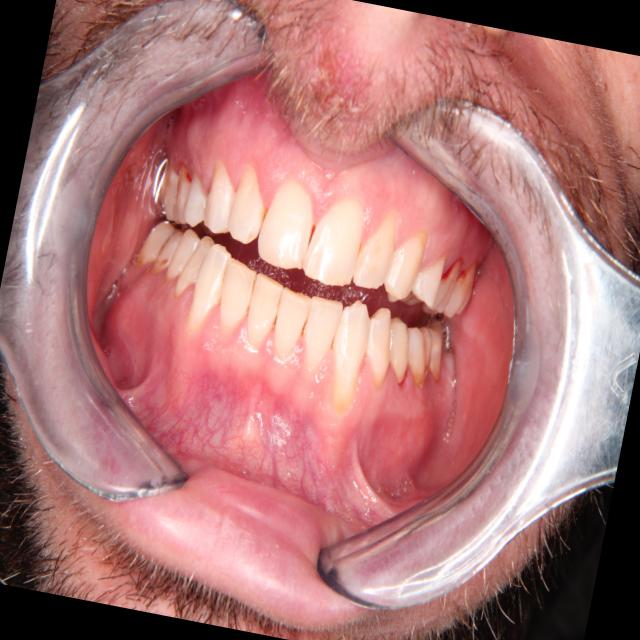tooth: (317, 289, 378, 418), (299, 190, 373, 294), (252, 170, 322, 277), (351, 197, 408, 302), (219, 153, 275, 253), (183, 233, 235, 339), (292, 283, 346, 378), (210, 250, 266, 339), (380, 219, 432, 310), (353, 294, 401, 382), (269, 278, 316, 366), (169, 226, 220, 307), (242, 264, 288, 352), (375, 303, 420, 392), (198, 155, 244, 242), (129, 206, 183, 274), (396, 316, 440, 391), (149, 152, 192, 226), (407, 240, 450, 314), (414, 313, 457, 385), (443, 253, 483, 327), (427, 248, 465, 323), (177, 165, 217, 235), (163, 225, 205, 289), (165, 158, 202, 229), (148, 225, 191, 280)
